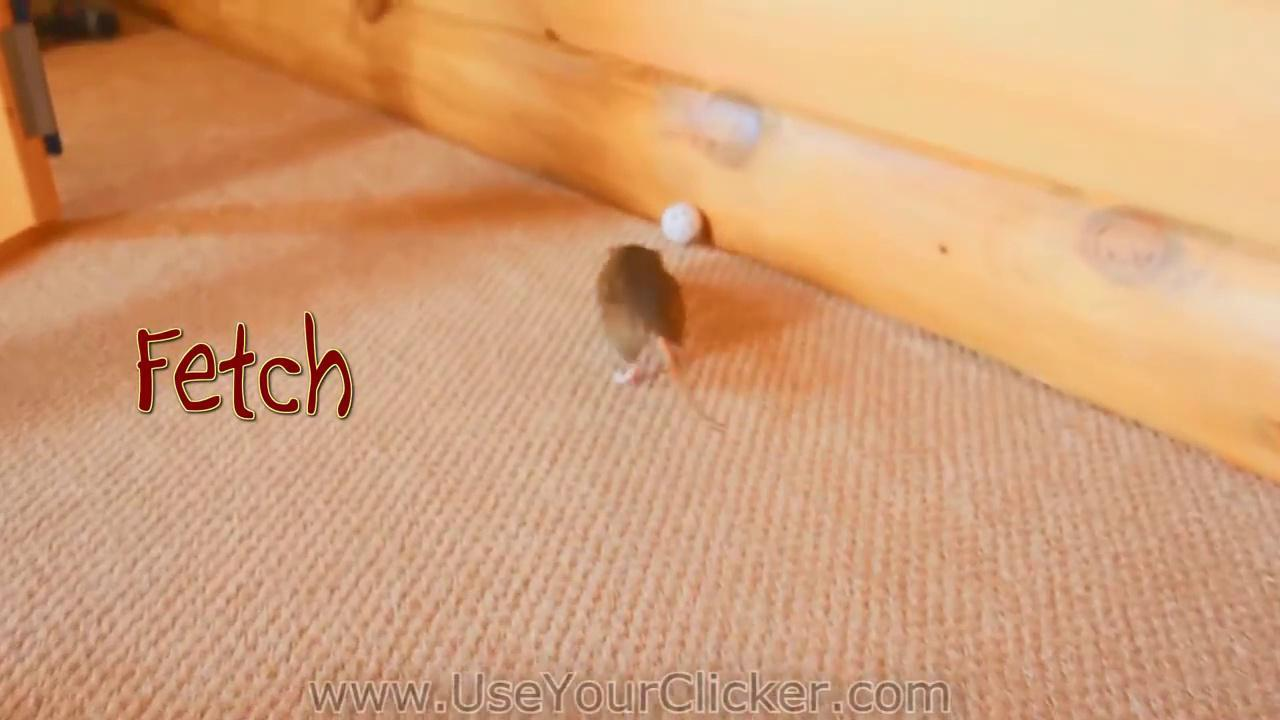rat: (596, 244, 726, 428)
